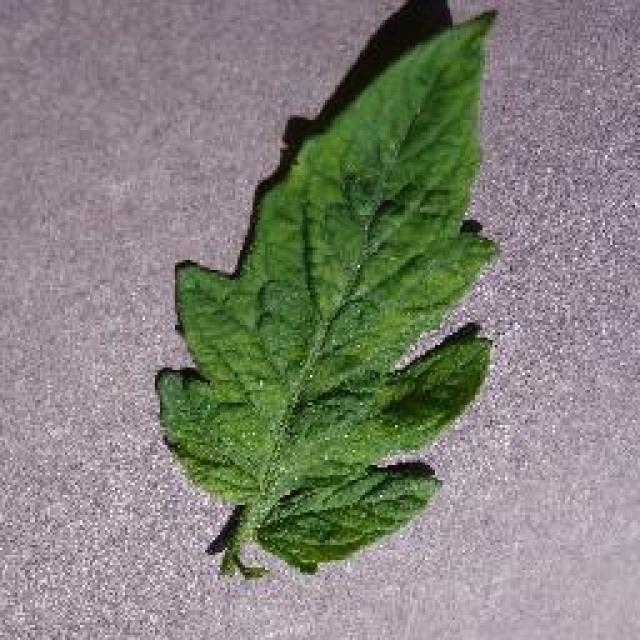Tomato___Tomato_mosaic_virus: (160, 12, 492, 572)
